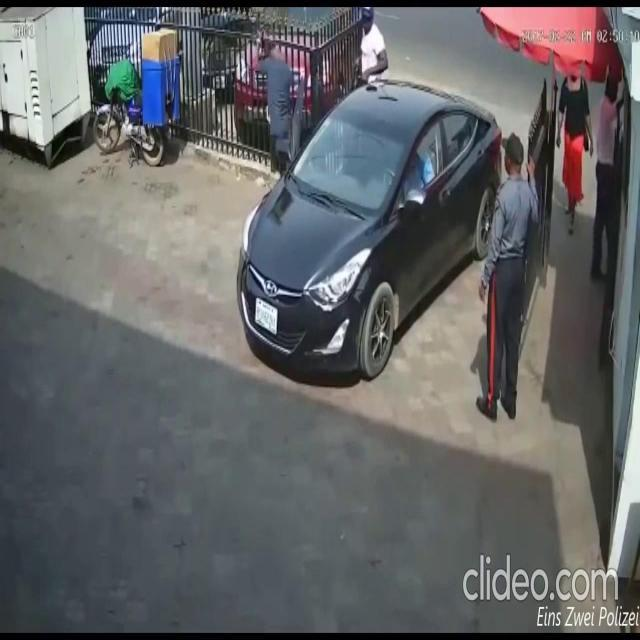pistol: (246, 20, 271, 60)
